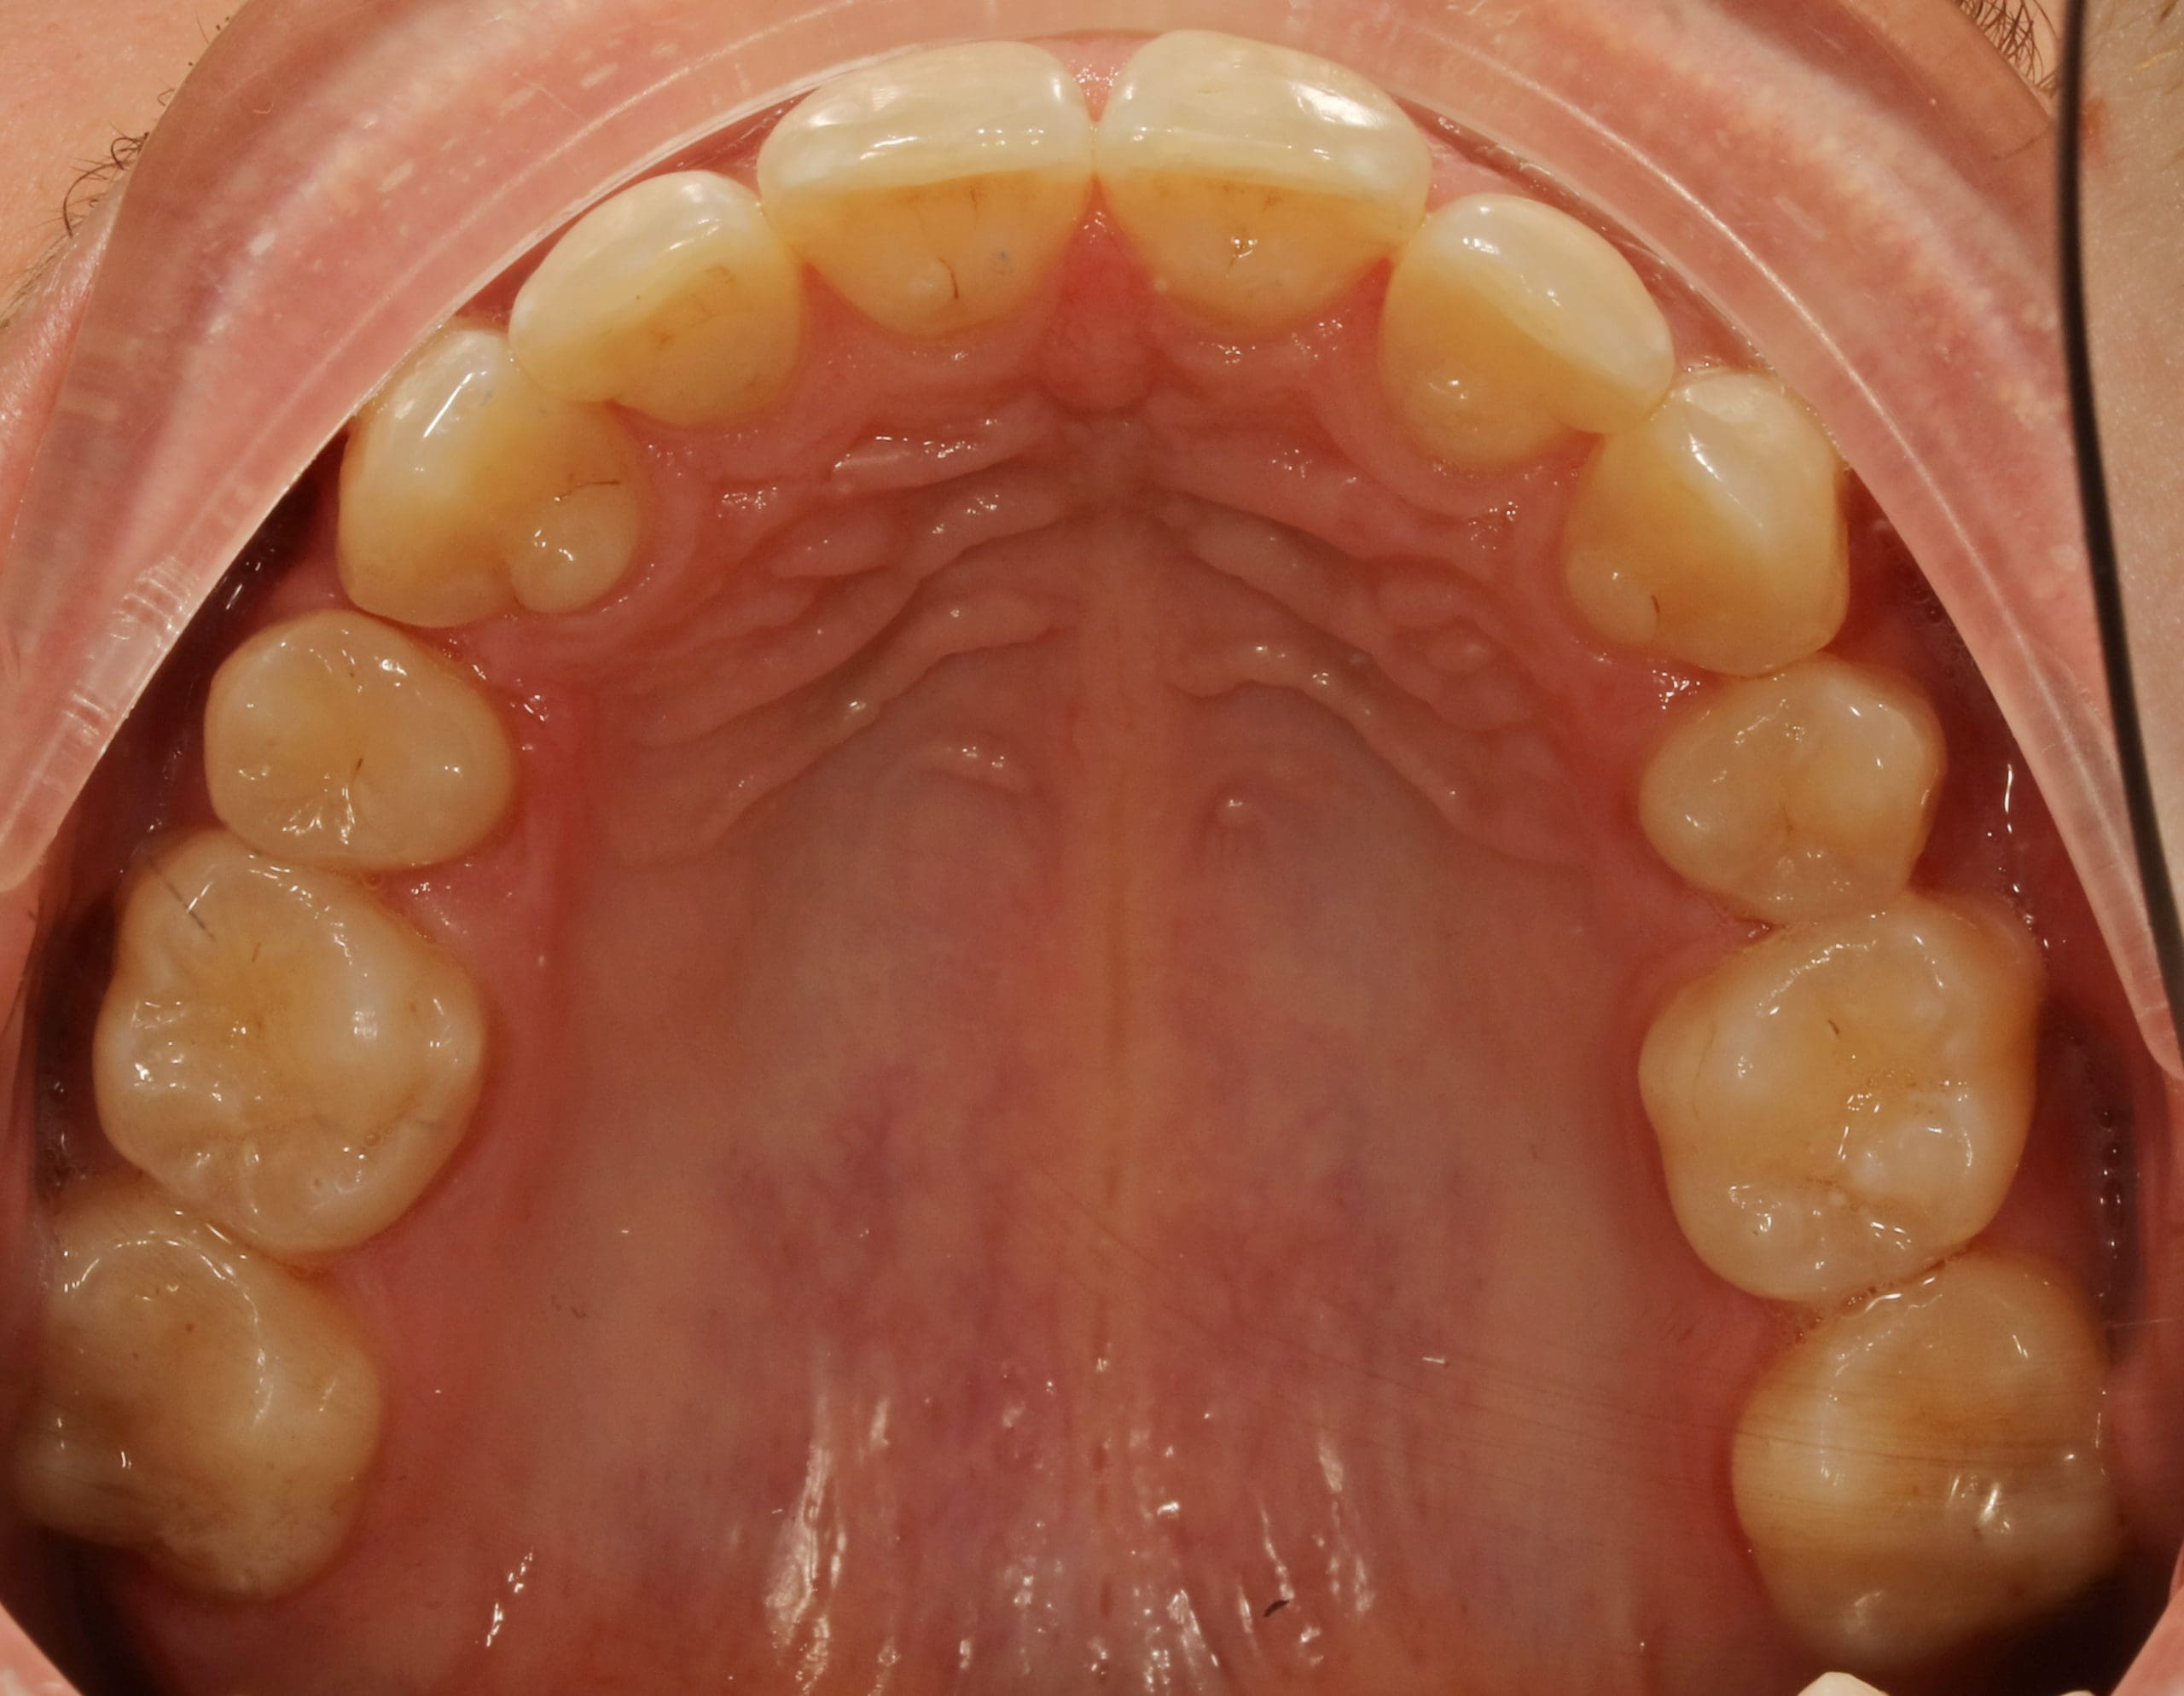UL1BC_healthy: (1642, 682, 1941, 902)
UL1M_healthy: (1753, 1301, 2088, 1627)
UL2BC_healthy: (1675, 939, 2046, 1267)
ULCI_healthy: (1103, 39, 1413, 328)
ULC_healthy: (1610, 399, 1849, 657)
ULLI_healthy: (1411, 195, 1672, 454)
UR1BC_healthy: (202, 620, 523, 875)
UR1M_healthy: (53, 1232, 379, 1590)
UR2BC_healthy: (110, 856, 484, 1241)
URCI_healthy: (760, 51, 1099, 323)
URC_healthy: (358, 370, 652, 618)
URLI_healthy: (528, 188, 801, 425)
